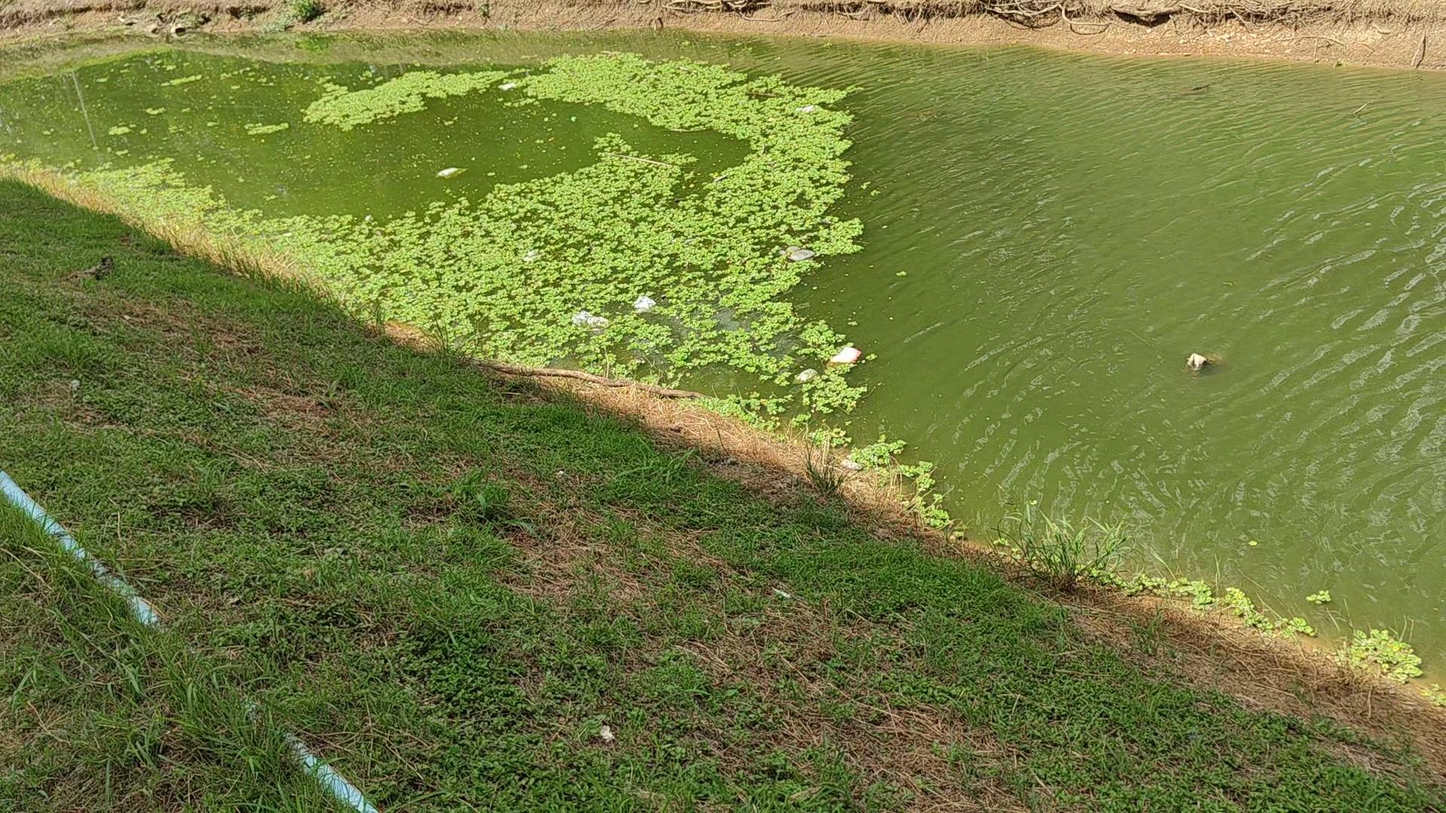trash: (572, 311, 609, 329), (829, 346, 861, 364), (1186, 353, 1210, 370), (786, 247, 816, 260), (633, 296, 656, 312), (795, 368, 819, 382), (437, 167, 464, 178), (522, 250, 540, 262), (796, 105, 817, 113), (502, 81, 517, 90)
